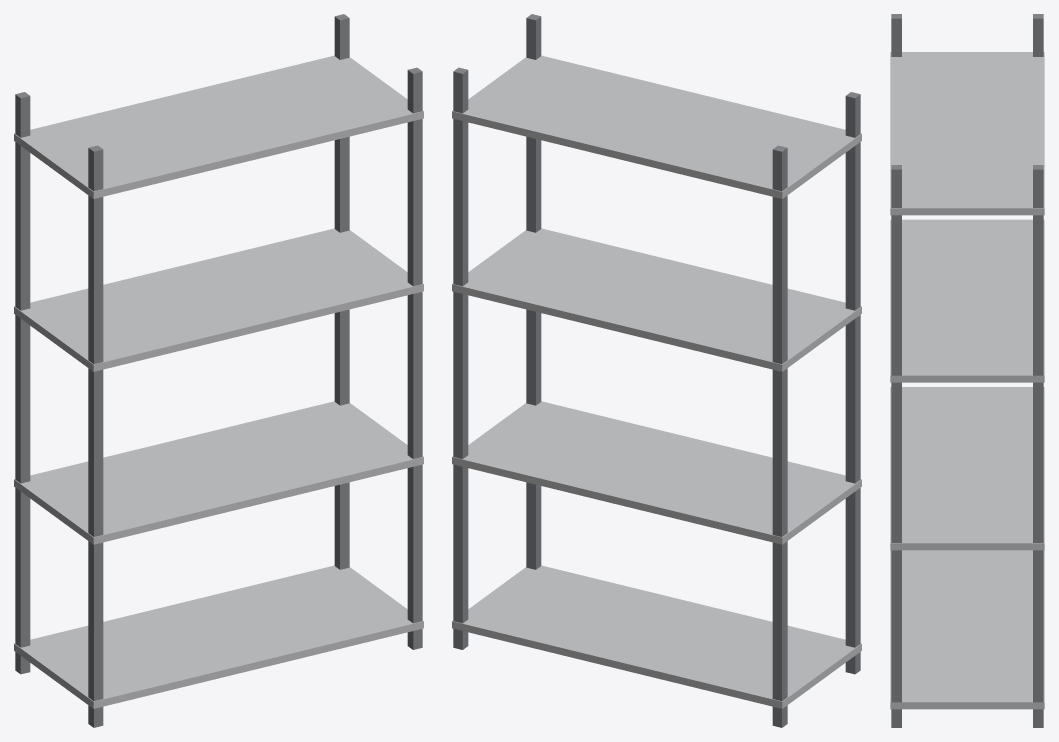
File: shelf_storage.glb
3 renders of one model, left to right at view 1: azimuth 30°, elevation 25°; view 2: azimuth 150°, elevation 25°; view 3: azimuth 270°, elevation 25°, orthographic. The views are drawn at different scales.
Parts seen in each view (by area): view 1: shelf_storage; view 2: shelf_storage; view 3: shelf_storage.
Part boxes in pixels (box(x1,y1,x2,y2)): shelf_storage: box(14, 14, 423, 727); shelf_storage: box(452, 14, 861, 727); shelf_storage: box(890, 14, 1044, 727).
Bounding box in the file's own units: 1.2 × 2 × 0.5.
Materials: 1 (1 with a texture image).
